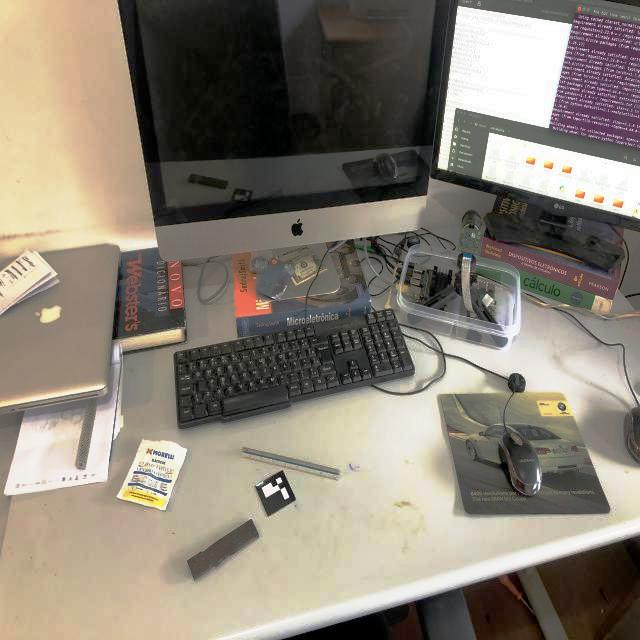Corrosion: (187, 519, 259, 581)
